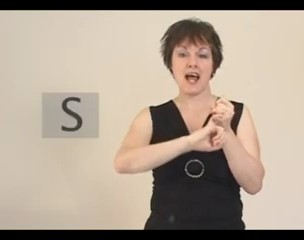S: (187, 93, 238, 157)
